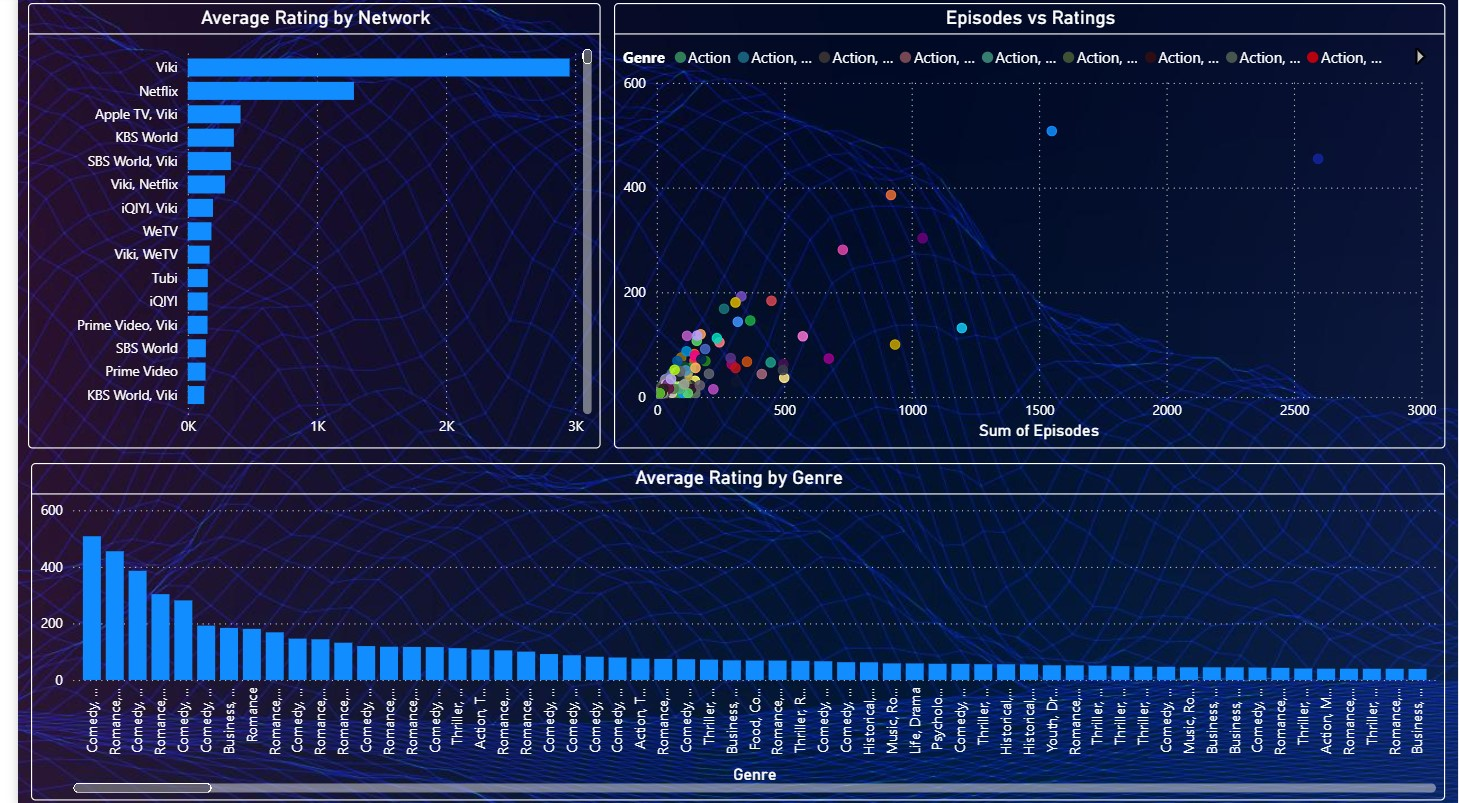

What the dashboard file says about the page in this screenshot:
{"tool":"powerbi","page":{"name":"Ratings Analysis","canvas":[1280,720],"ordinal":1},"visuals":[{"type":"barChart","title":"Average Rating by Network","fields":{"Category":["kdrama_clean.Network"],"Y":["Sum(kdrama_clean.Rating)"]},"box":[8.9,6.2,509.3,396.4],"z":0},{"type":"clusteredColumnChart","title":"Average Rating by Genre","fields":{"Category":["kdrama_clean.Genre"],"Y":["Sum(kdrama_clean.Rating)"]},"box":[11.7,414.8,1256.9,299.9],"z":1},{"type":"scatterChart","title":"Episodes vs Ratings","fields":{"X":["Sum(kdrama_clean.Episodes)"],"Y":["Sum(kdrama_clean.Rating)"],"Series":["kdrama_clean.Genre"]},"box":[529.8,6.2,738.7,395.6],"z":2}]}

Visuals, with their boxes in screenshot pixels (x1, y1, x2, y2), scaled from the page's 1280x720 canvas onto the 1459x803 screenshot:
"Average Rating by Network" barChart: box=[10, 7, 591, 449]
"Average Rating by Genre" clusteredColumnChart: box=[13, 463, 1446, 797]
"Episodes vs Ratings" scatterChart: box=[604, 7, 1446, 448]
